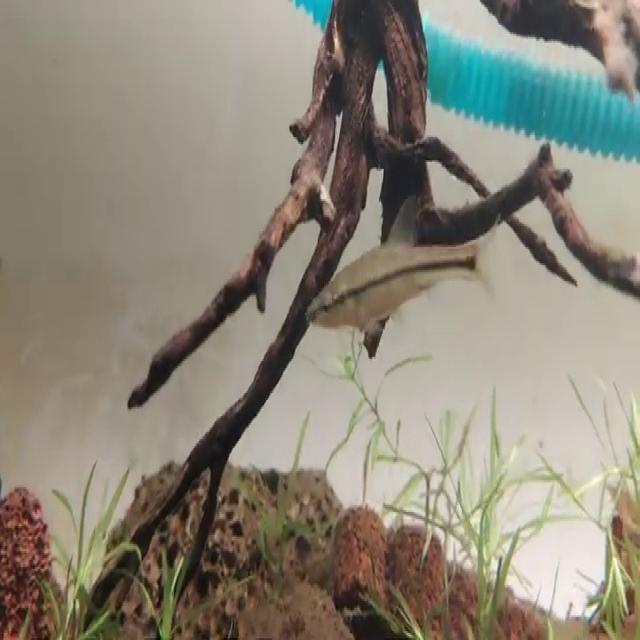Cakil Baligi: (299, 192, 513, 338)
